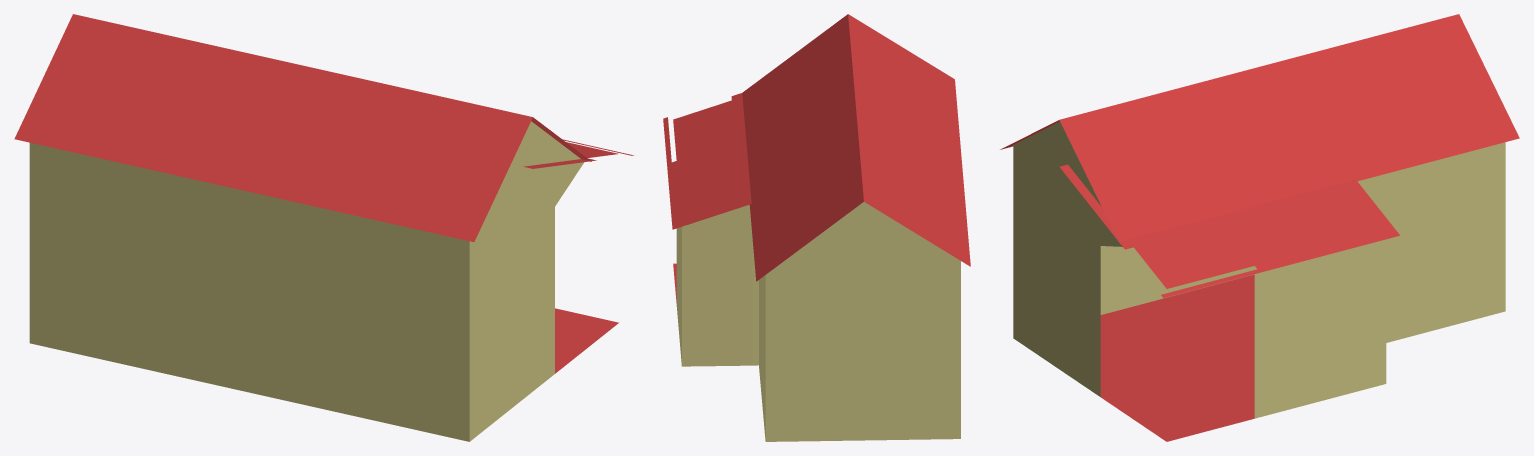
3 renders of one model, left to right at view 1: azimuth 30°, elevation 25°; view 2: azimuth 150°, elevation 25°; view 3: azimuth 270°, elevation 25°, orthographic. The views are drawn at different scales.
Bounding box in the file's own units: 24.97 × 25.35 × 13.85.
